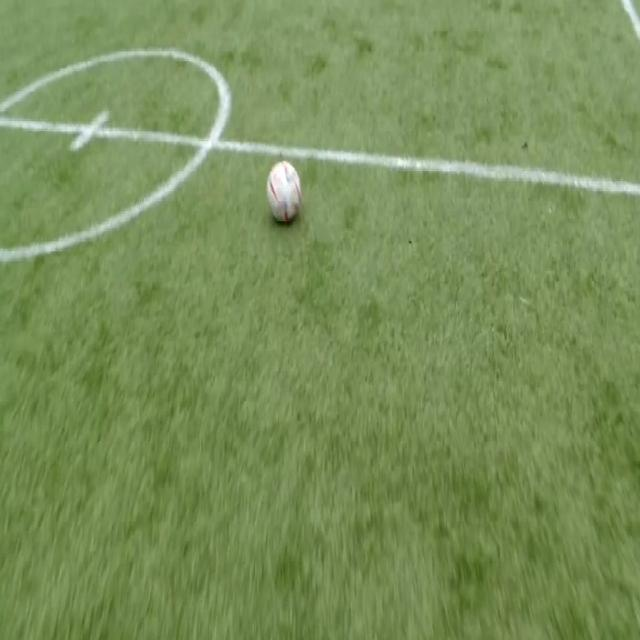ball: (267, 162, 301, 222)
